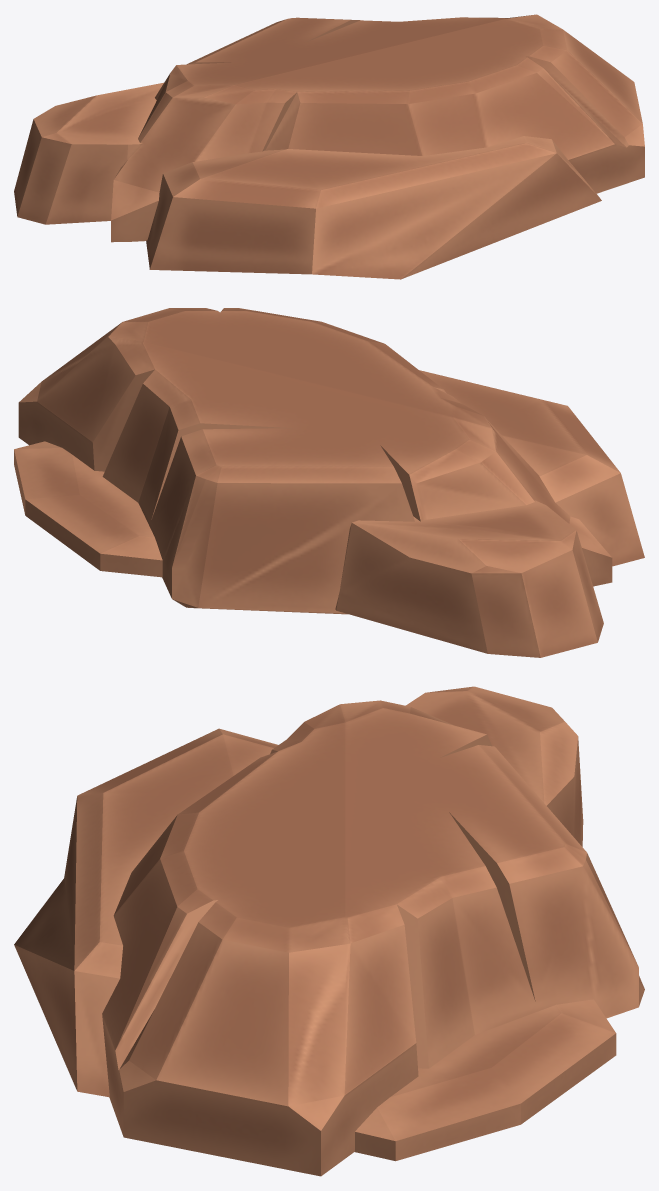
The model's file is midle_rock_01.glb.
The picture shows the model from 3 angles, top to bottom: view 1: azimuth 30°, elevation 25°; view 2: azimuth 150°, elevation 25°; view 3: azimuth 270°, elevation 25°; orthographic projection. The views are drawn at different scales.
Visible parts, largest first — view 1: Cube.005_Midle_rock_1_0; view 2: Cube.005_Midle_rock_1_0; view 3: Cube.005_Midle_rock_1_0.
Boxes of the visible parts, left/top/right/bottom form: Cube.005_Midle_rock_1_0: left=14, top=14, right=644, bottom=279; Cube.005_Midle_rock_1_0: left=14, top=308, right=644, bottom=657; Cube.005_Midle_rock_1_0: left=14, top=686, right=644, bottom=1176.
Bounding box in the file's own units: 7.49 × 1.64 × 4.96.
Materials: 1 (1 with a texture image).
